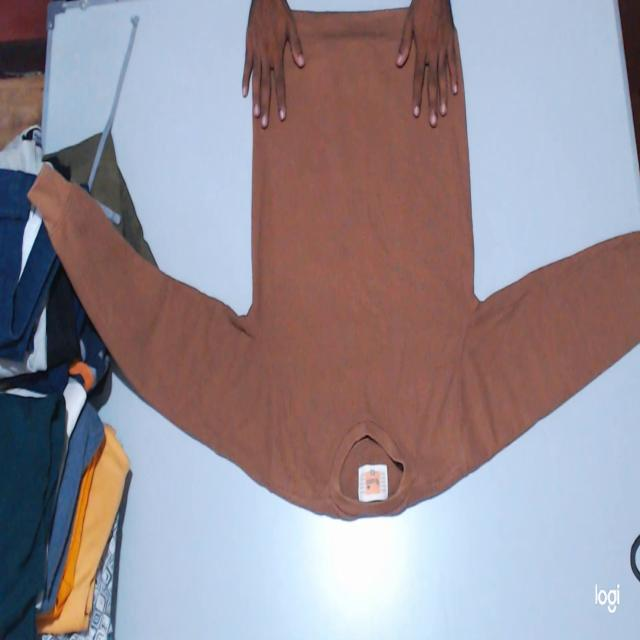new-garment: (32, 10, 640, 519)
